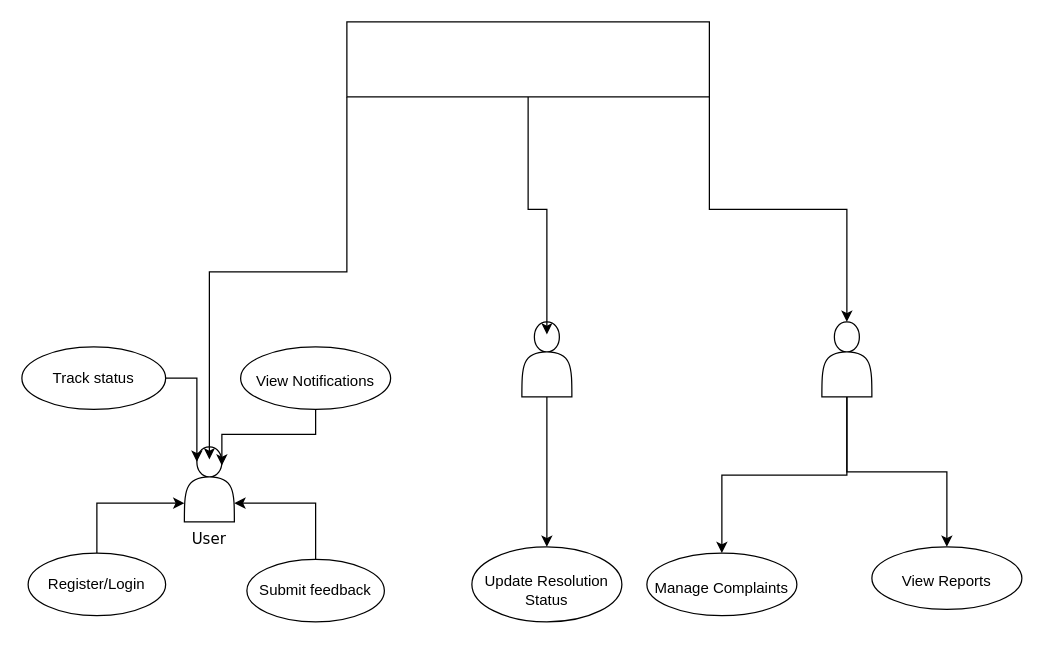
Image size: 1044x668. Some labels were removed from this diagram. Here are the shapes that lost their labels. From the top down, the centre of each, then its label:
At [527,59]: "Resolve IT Grievance and feedback system".
At [546,359]: "Staff".
At [846,359]: "Admin".
